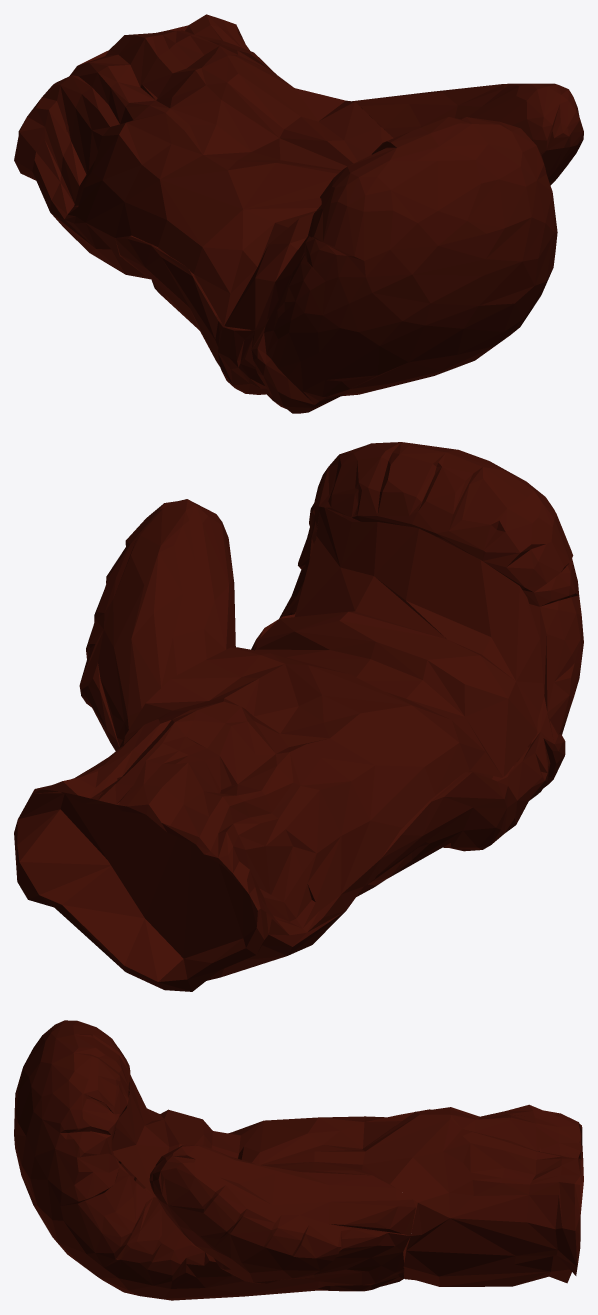
File: LeftGlove.FBX
The picture shows the model from 3 angles, top to bottom: view 1: azimuth 30°, elevation 25°; view 2: azimuth 150°, elevation 25°; view 3: azimuth 270°, elevation 25°; orthographic projection. The views are drawn at different scales.
Visible parts, largest first — view 1: sub01; view 2: sub01; view 3: sub01.
Part boxes in pixels (box(x1,y1,x2,y2)): sub01: box(14, 14, 583, 413); sub01: box(14, 442, 583, 991); sub01: box(14, 1020, 583, 1300).
Size of the model in its own units: 5.52 by 4.26 by 8.56.
